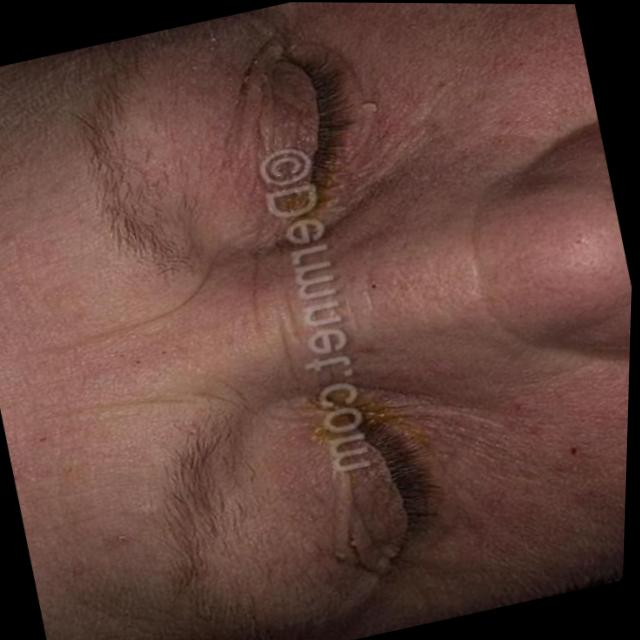Eczema: (291, 378, 438, 490), (268, 152, 366, 253)
